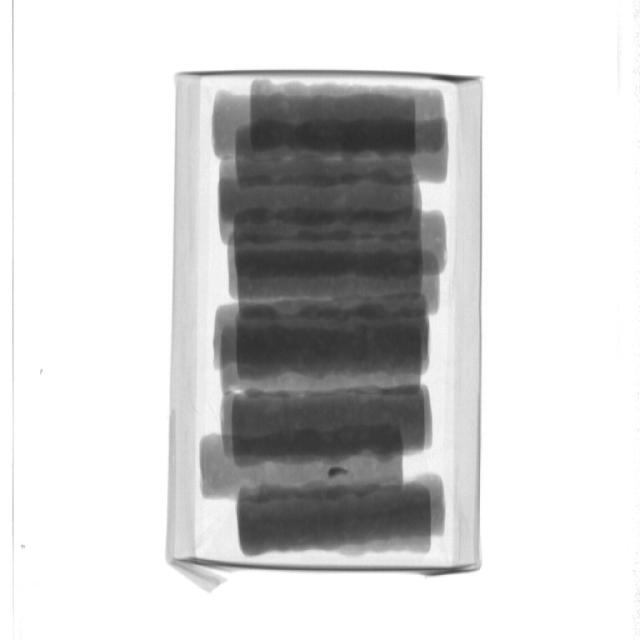ym: (328, 466, 350, 477)
